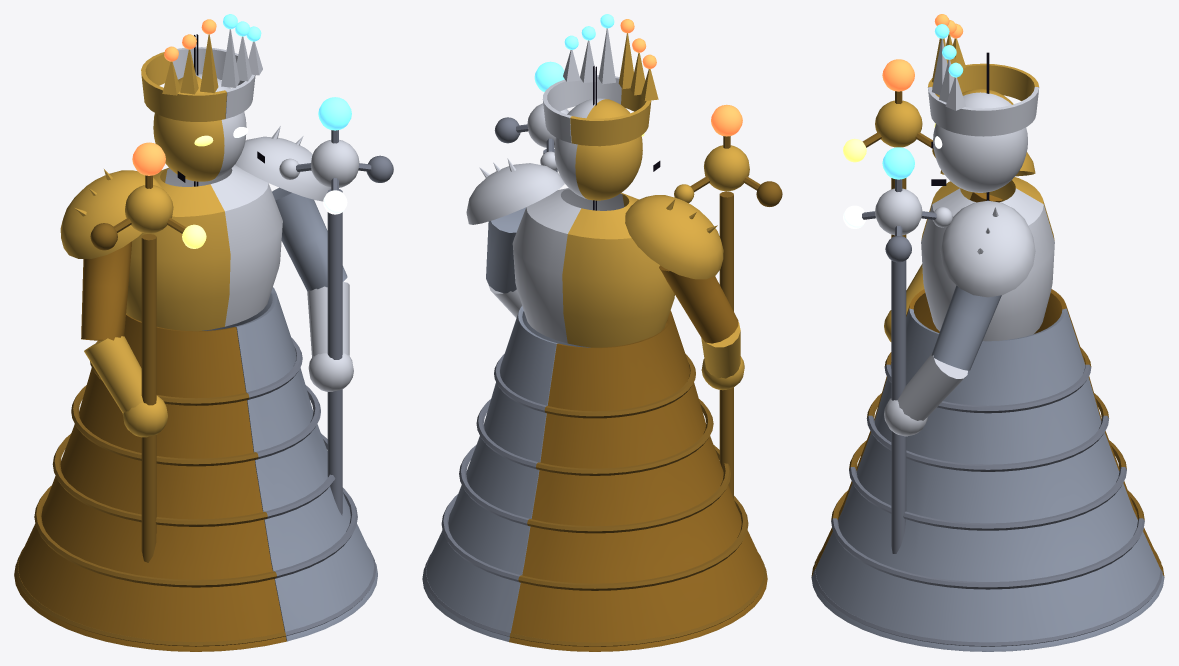
The model's file is king.glb.
3 renders of one model, left to right at view 1: azimuth 30°, elevation 25°; view 2: azimuth 150°, elevation 25°; view 3: azimuth 270°, elevation 25°, orthographic. The views are drawn at different scales.
Parts seen in each view (by area): view 1: kng_gold, kng_silver; view 2: kng_gold, kng_silver; view 3: kng_silver, kng_gold.
Part boxes in pixels (box(x1,y1,x2,y2)): kng_gold: box(14, 19, 286, 651); kng_silver: box(165, 14, 393, 641); kng_gold: box(509, 19, 782, 651); kng_silver: box(422, 14, 624, 641); kng_silver: box(811, 24, 1164, 651); kng_gold: box(811, 14, 1164, 576).
Bounding box in the file's own units: 2.37 × 4.15 × 2.37.
